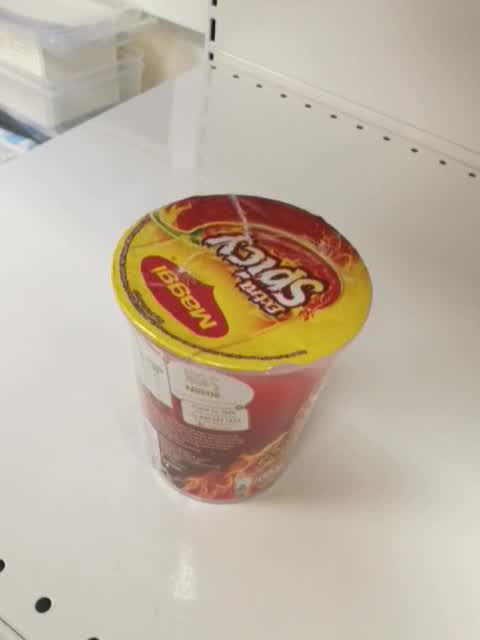maggi: (112, 194, 373, 504)
